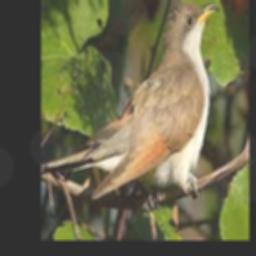Cuckoo: (73, 3, 219, 198)
